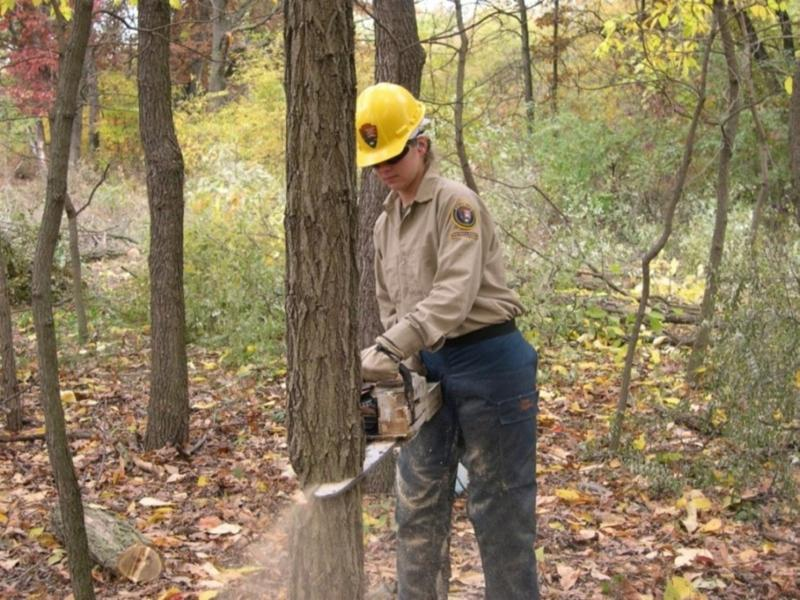person: (355, 83, 544, 599)
